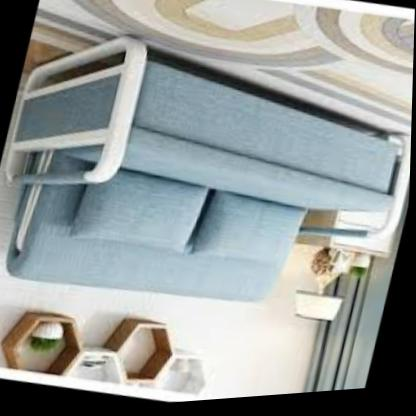Sofa: (0, 0, 416, 365)
